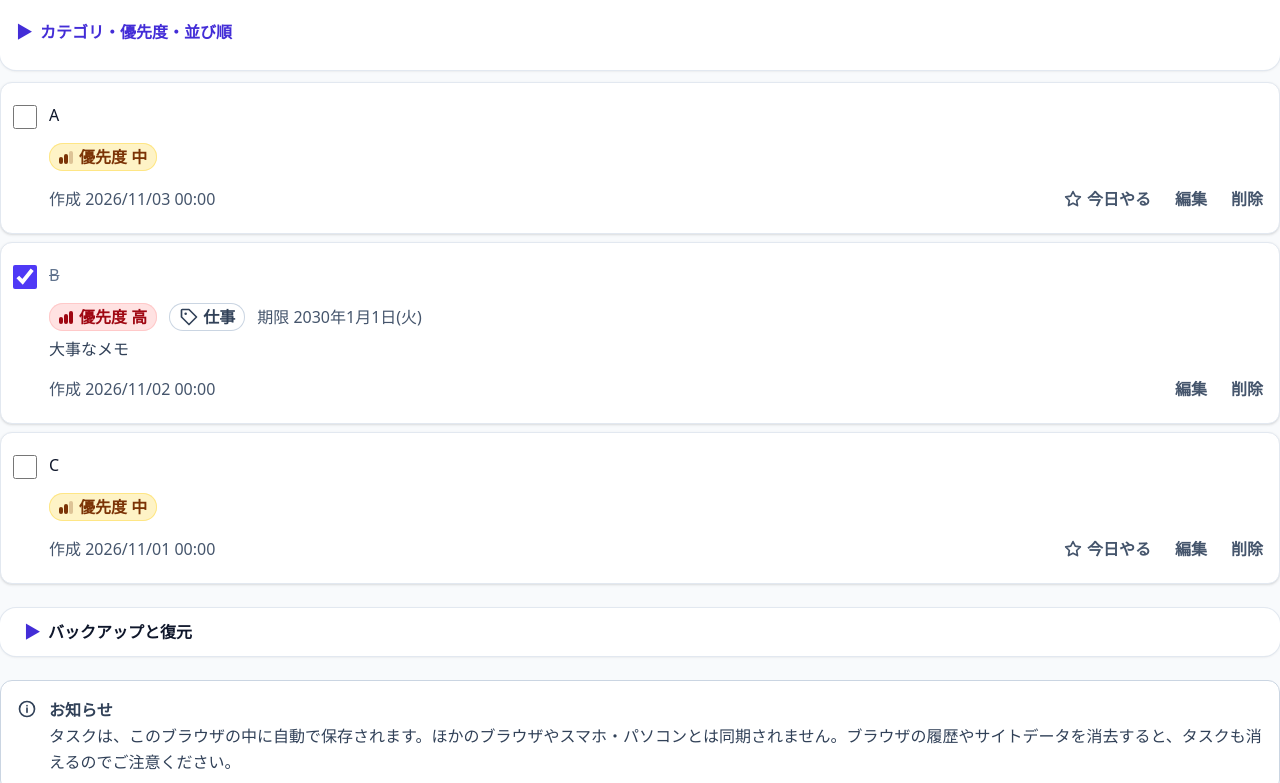
Scenario: G. 削除の取り消し（Undo） › 続けて別のタスクを削除したら、最後に削除したものを戻せる
Later steps or results of the test are not shown.
(page scrolled)
Click the button with aria-label "「B」を削除" at (1247, 389), box 1219,367 -> 1275,411
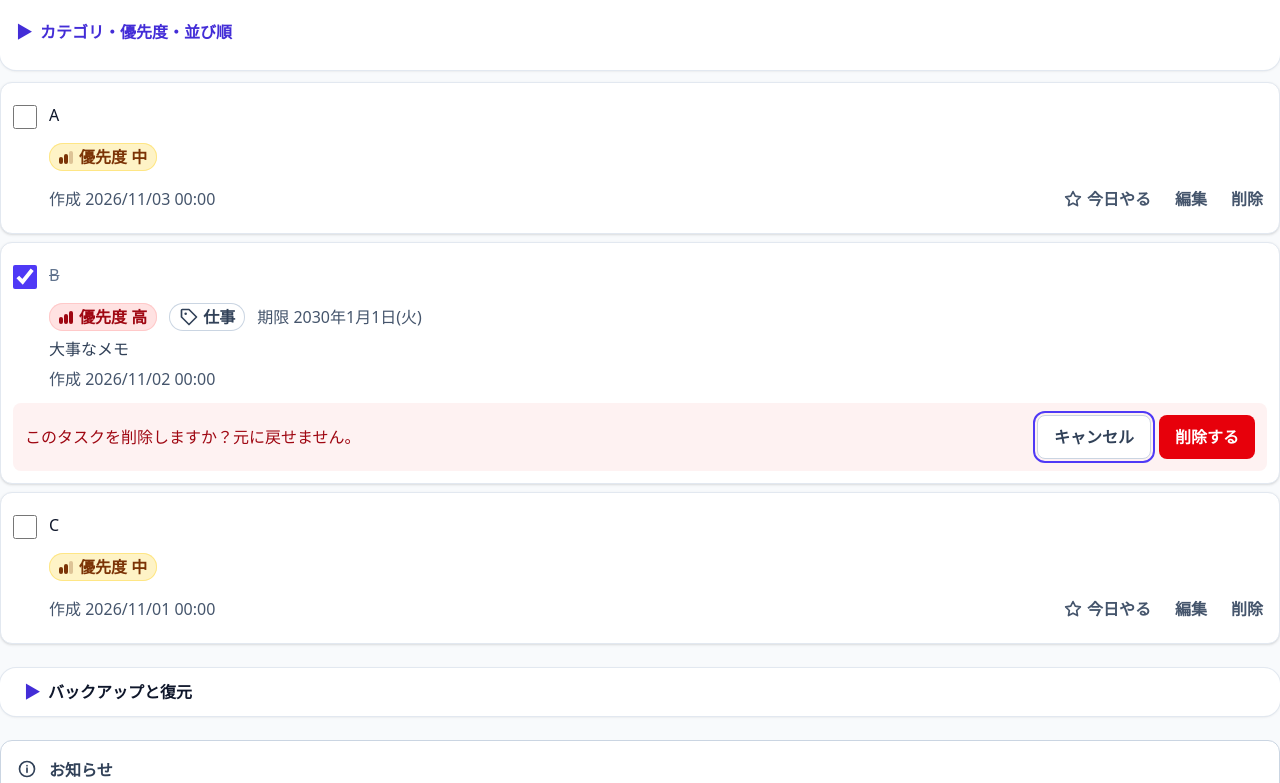
Click the button "削除する" at (1207, 437), box 1159,415 -> 1255,459
(page scrolled)
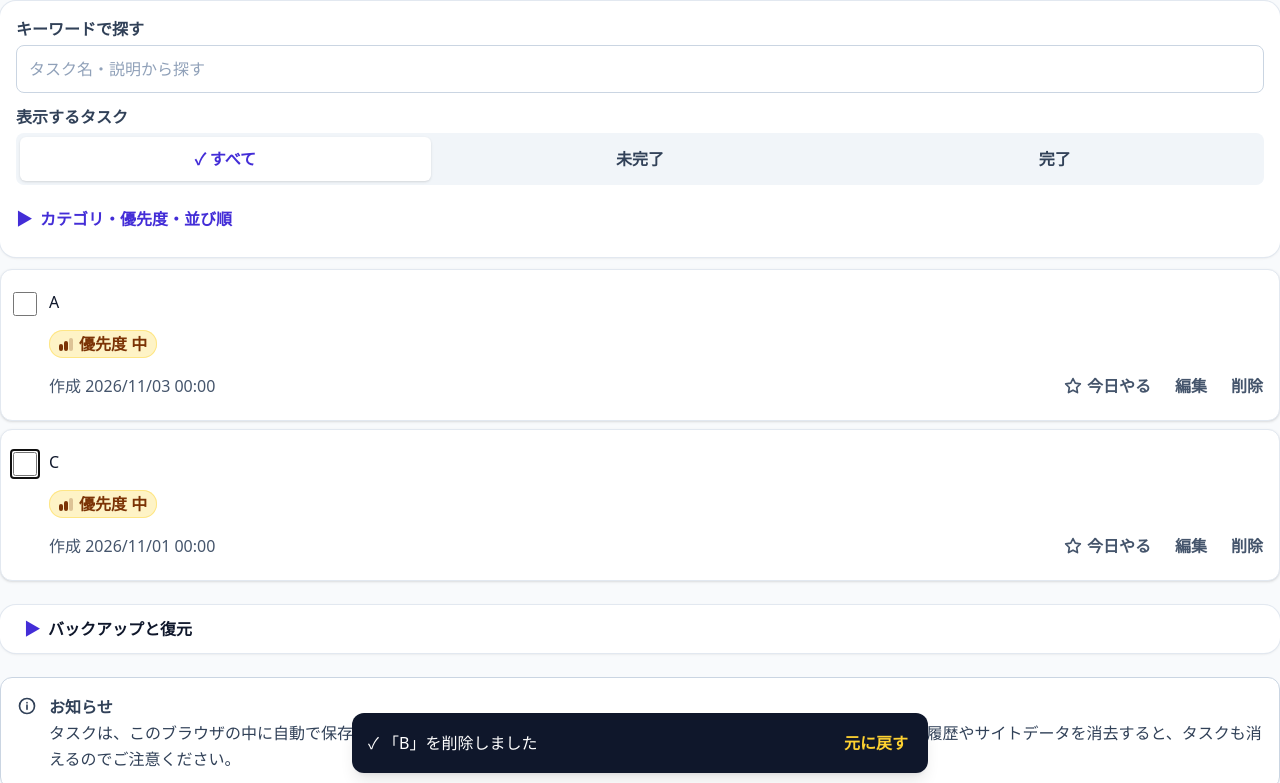
Click the button with aria-label "「C」を削除" at (1247, 546), box 1219,524 -> 1275,568
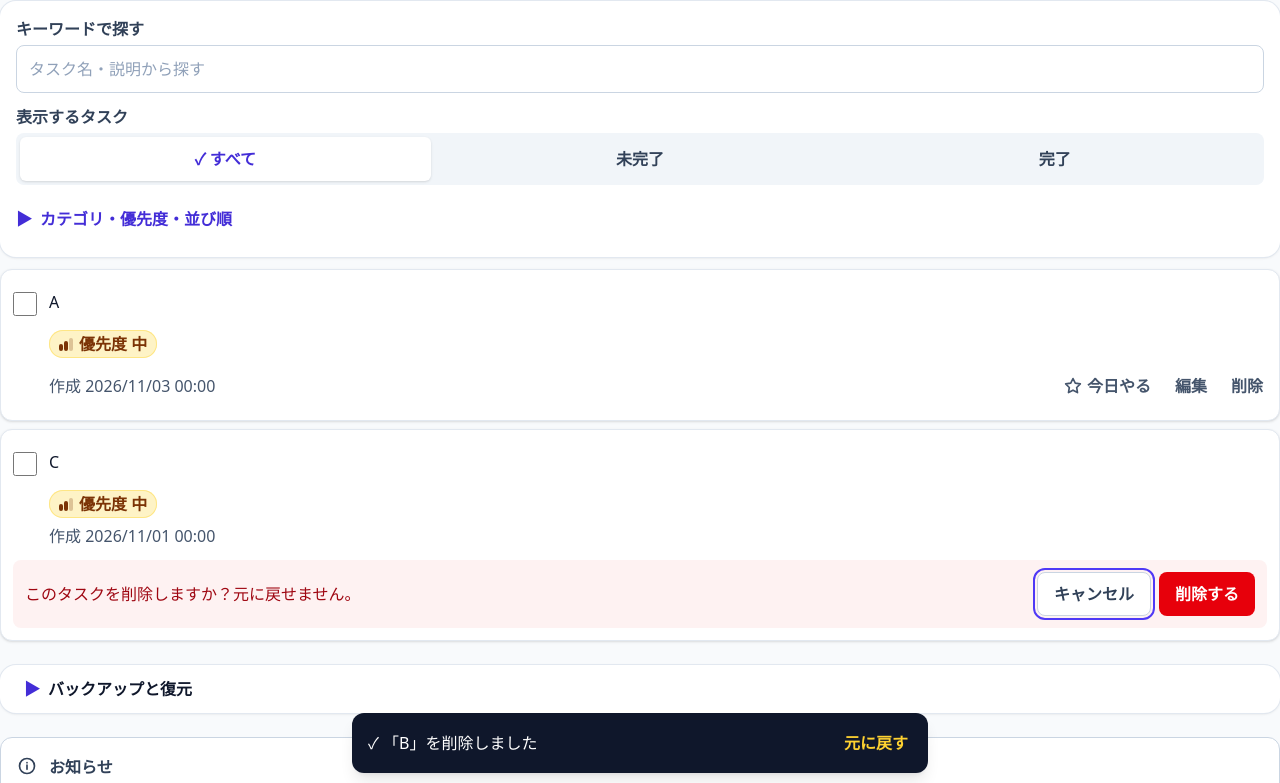
Click the button "削除する" at (1207, 594), box 1159,572 -> 1255,616
(page scrolled)
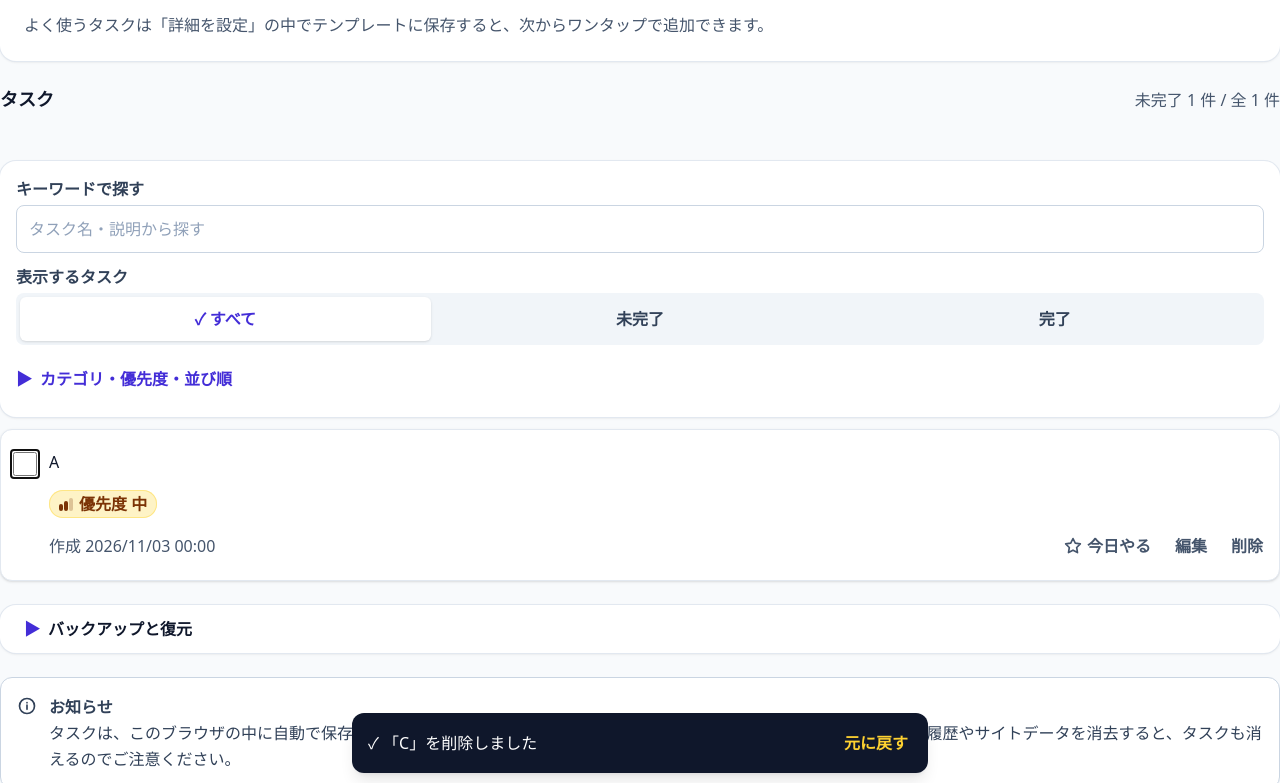
Result: the text "「C」を削除しました" is shown at 368,732 -> 537,754
